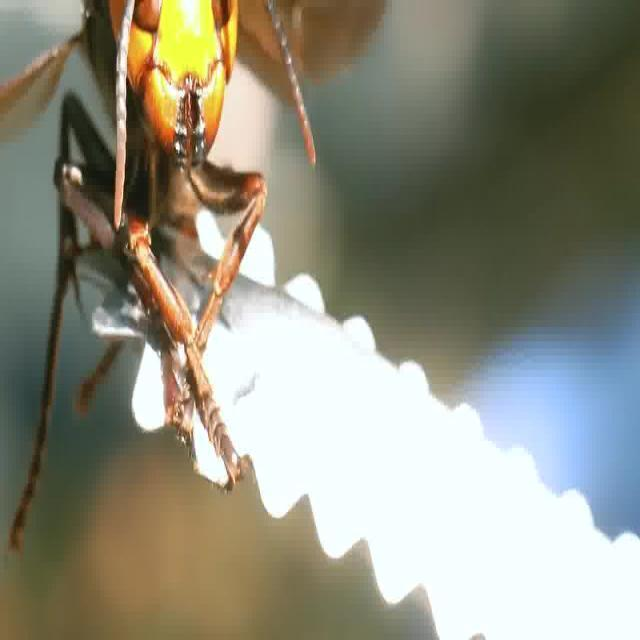Wasp: (3, 2, 315, 490)
